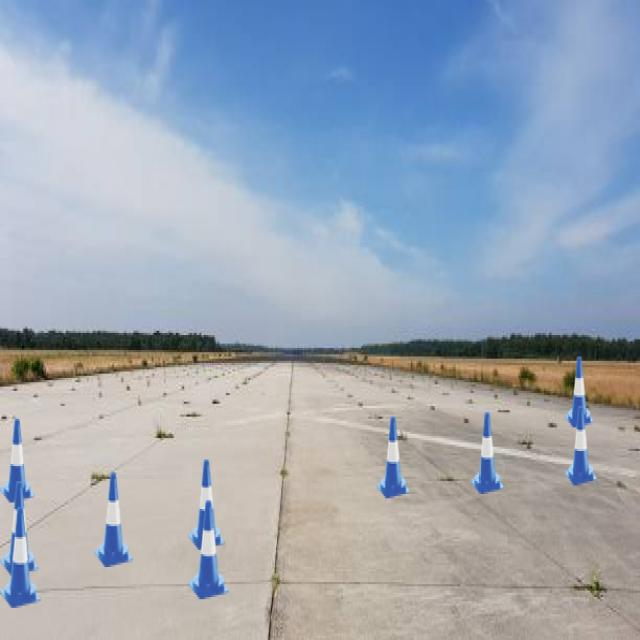blue_cone: (0, 507, 41, 608), (188, 500, 229, 600), (94, 472, 133, 567), (0, 481, 39, 576), (188, 460, 225, 550), (0, 418, 35, 502), (376, 417, 410, 498), (471, 412, 504, 494), (565, 406, 597, 485), (565, 357, 594, 428)
